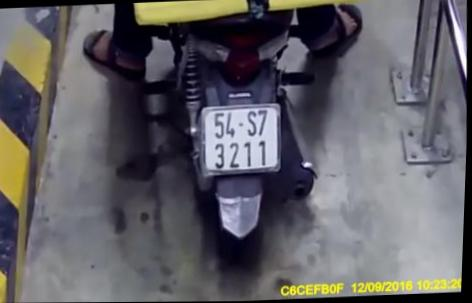LP: (197, 102, 286, 177)
